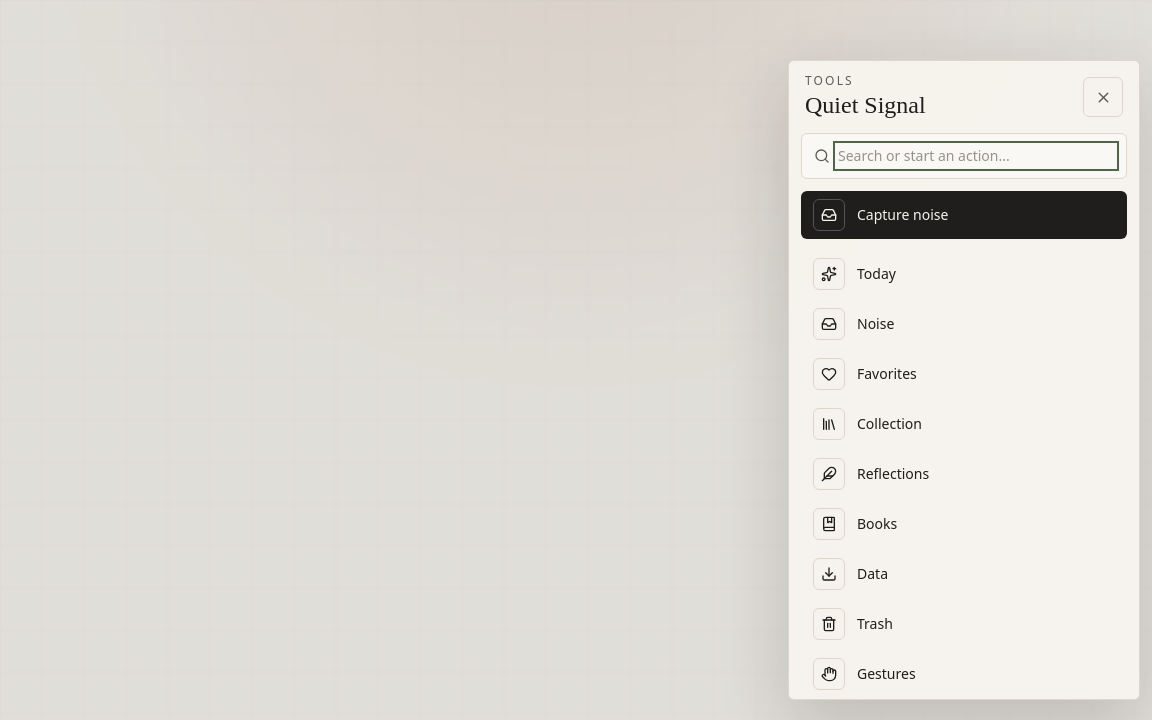
it: CommandDrawer › lädt beim Öffnen Zitate und Bücher aus der Datenbank und findet sie über die Suche
Type "schweigen" into the field labelled "Search or start an action...".
click(976, 156); type("schweigen")  # box [838,146,1114,166]
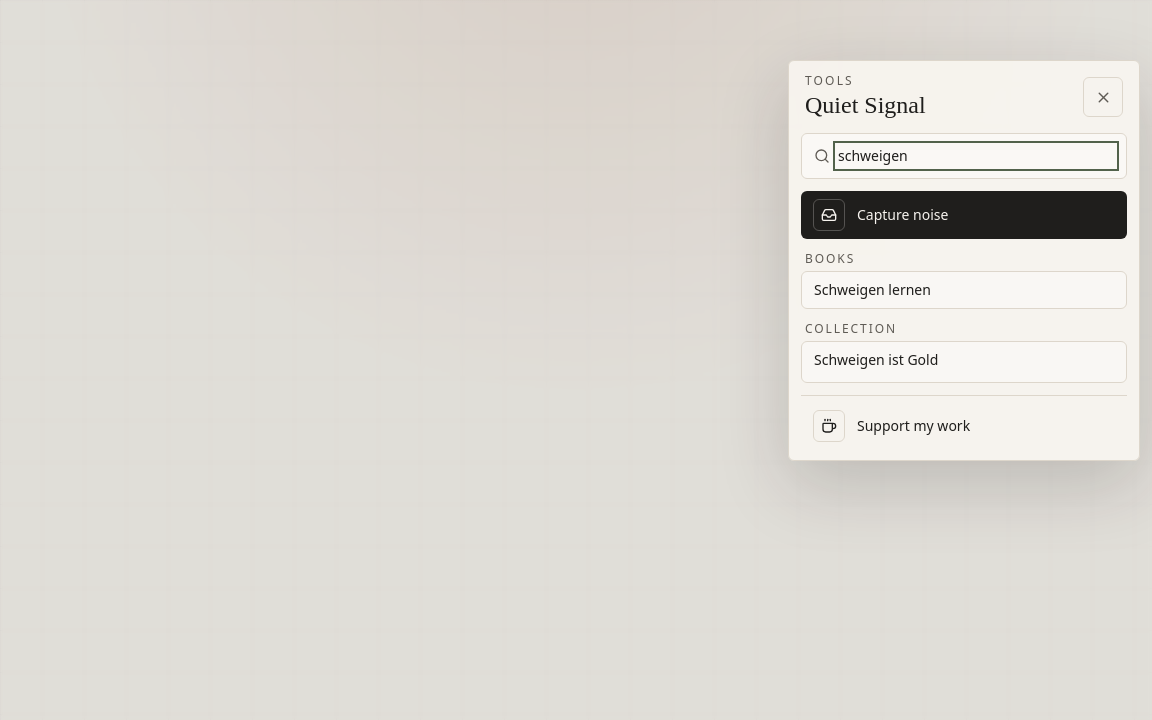
Now the text "Schweigen ist Gold" is shown, box [814,350,938,369]
Now the text "Schweigen lernen" is shown, box [814,280,931,299]
